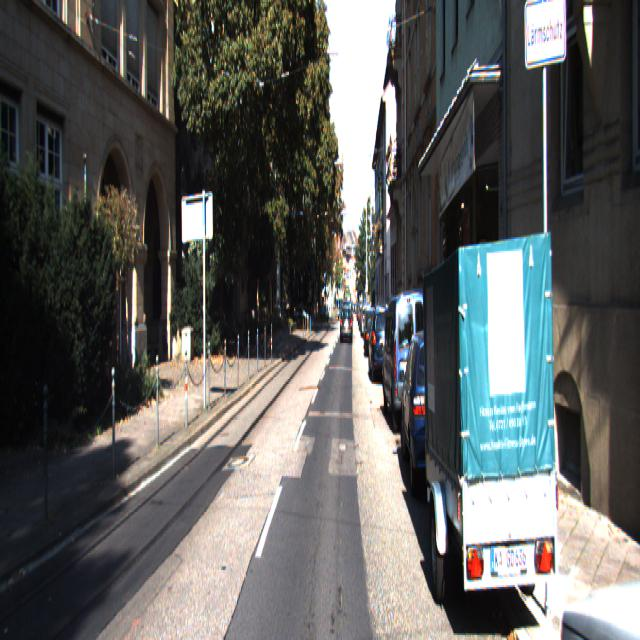Car: (419, 218, 564, 638), (562, 114, 640, 638), (401, 317, 476, 511), (381, 286, 433, 438), (368, 302, 398, 386), (364, 312, 382, 359), (340, 305, 353, 345)
